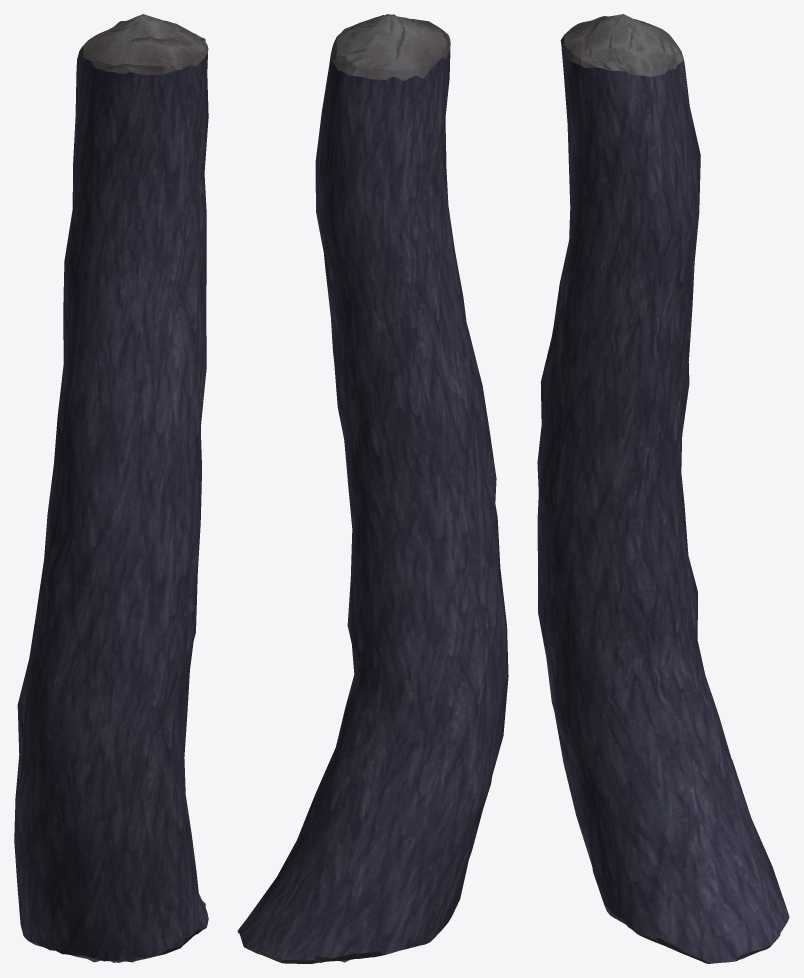
3 renders of one model, left to right at view 1: azimuth 30°, elevation 25°; view 2: azimuth 150°, elevation 25°; view 3: azimuth 270°, elevation 25°, orthographic. The views are drawn at different scales.
Visible parts, largest first — view 1: SM_Willow_03_half_bottom_LOD0; view 2: SM_Willow_03_half_bottom_LOD0; view 3: SM_Willow_03_half_bottom_LOD0.
Part boxes in pixels (x1,y1,x2,y2): SM_Willow_03_half_bottom_LOD0: [14, 14, 208, 962]; SM_Willow_03_half_bottom_LOD0: [237, 14, 508, 963]; SM_Willow_03_half_bottom_LOD0: [537, 14, 789, 963].
Bounding box in the file's own units: 1.21 × 5.14 × 1.27.
Materials: 1 (1 with a texture image).
